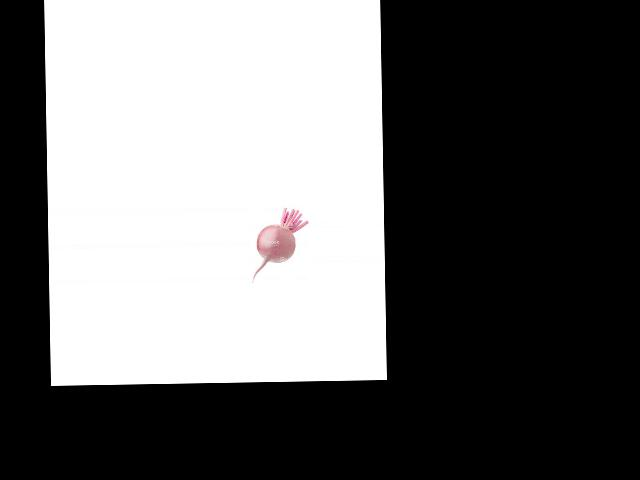beet: (250, 207, 309, 281)
